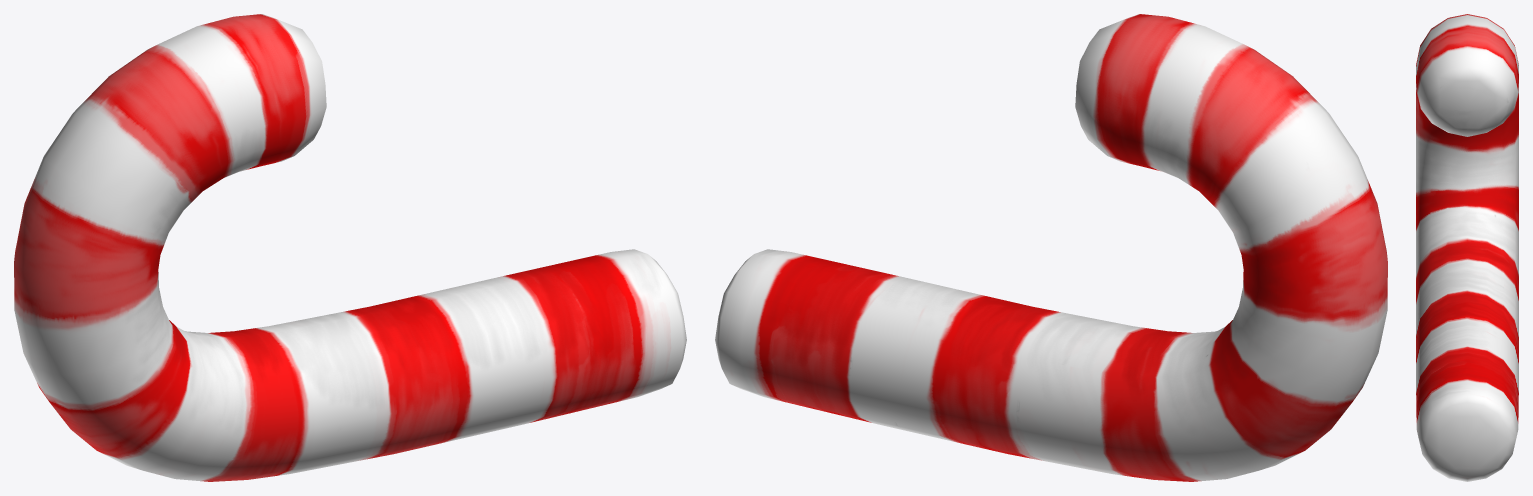
Rendered from candy_cane.fbx.
3 views of the same model, side by side, from view 1: azimuth 30°, elevation 25°; view 2: azimuth 150°, elevation 25°; view 3: azimuth 270°, elevation 25° (orthographic). The views are drawn at different scales.
Visible parts, largest first — view 1: candy_cane; view 2: candy_cane; view 3: candy_cane.
Part boxes in pixels (x1,y1,x2,y2): candy_cane: (14,14,686,481); candy_cane: (715,14,1387,481); candy_cane: (1416,14,1518,481).
Size of the model in its own units: 0.5955 by 0.4075 by 0.1202.
